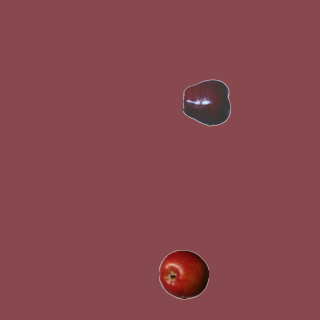Apple Braeburn: (158, 249, 208, 299)
Apple Red Delicious: (182, 77, 232, 127)
